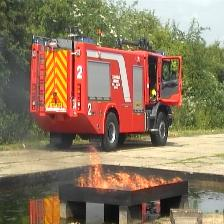fire: (75, 143, 183, 192)
